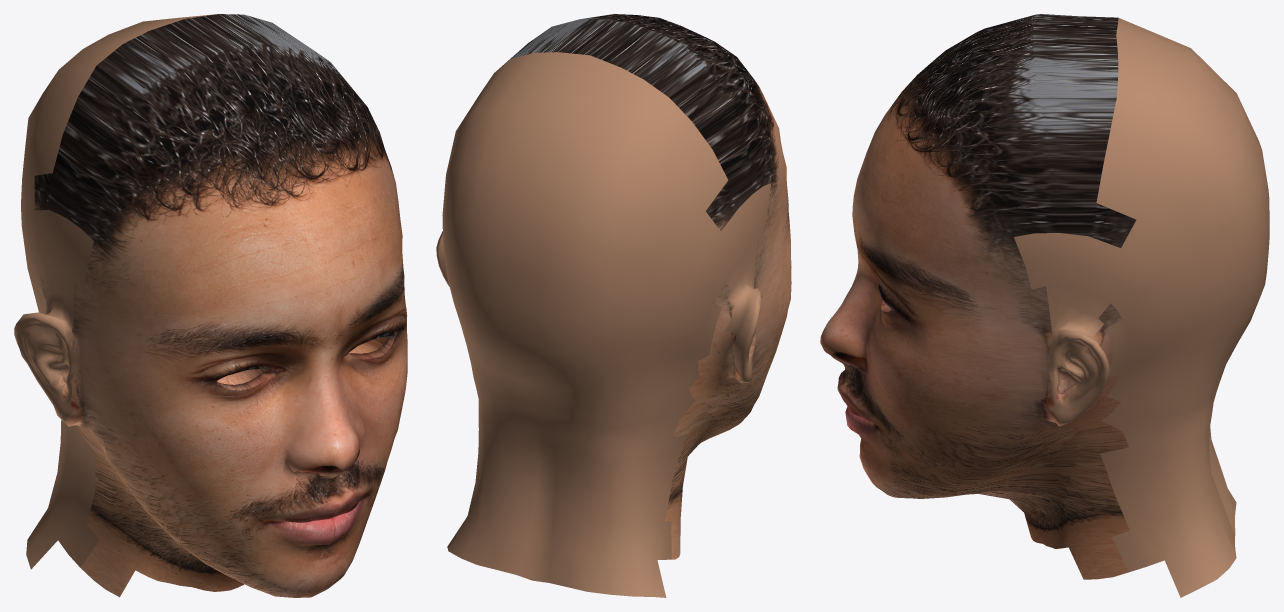
Rendered from B5_Head.glb.
3 renders of one model, left to right at view 1: azimuth 30°, elevation 25°; view 2: azimuth 150°, elevation 25°; view 3: azimuth 270°, elevation 25°, orthographic. The views are drawn at different scales.
Visible parts, largest first — view 1: Human_head; view 2: Human_head; view 3: Human_head.
Boxes of the visible parts, bbox=[...] form: Human_head: bbox=[14, 14, 407, 597]; Human_head: bbox=[436, 14, 791, 597]; Human_head: bbox=[820, 14, 1269, 597].
Size of the model in its own units: 0.191 by 0.2829 by 0.225.
2 materials, 1 textured.
